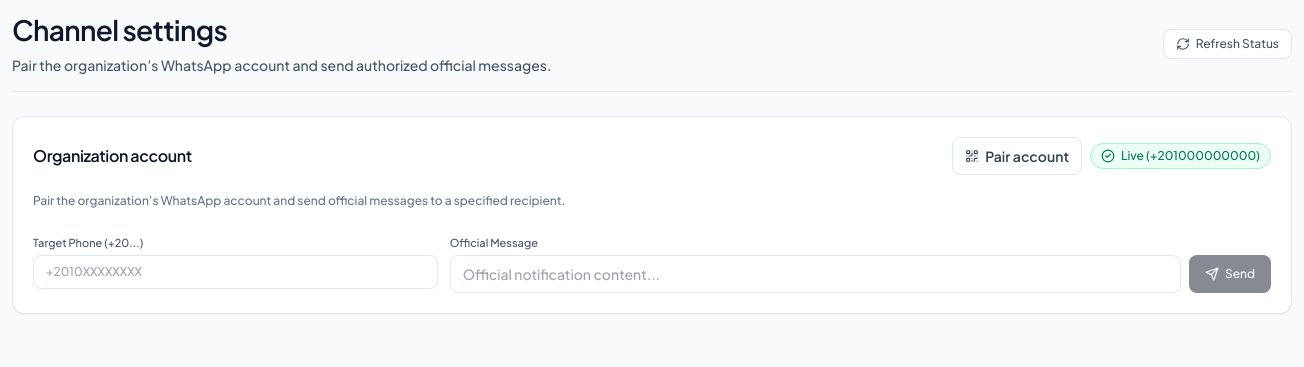
Test: separate communication views › clears stale connected status on refresh failure and supports retry
The width and height of the screenshot is (1304, 367).
Check: the text "Live (+201000000000)" is shown, box x1=1090 y1=143 x2=1271 y2=169
What coordinates should you click on to do the following:
click the button "Refresh Status"
I would click on:
 (1227, 44)
Its box is x1=1163 y1=28 x2=1292 y2=58.
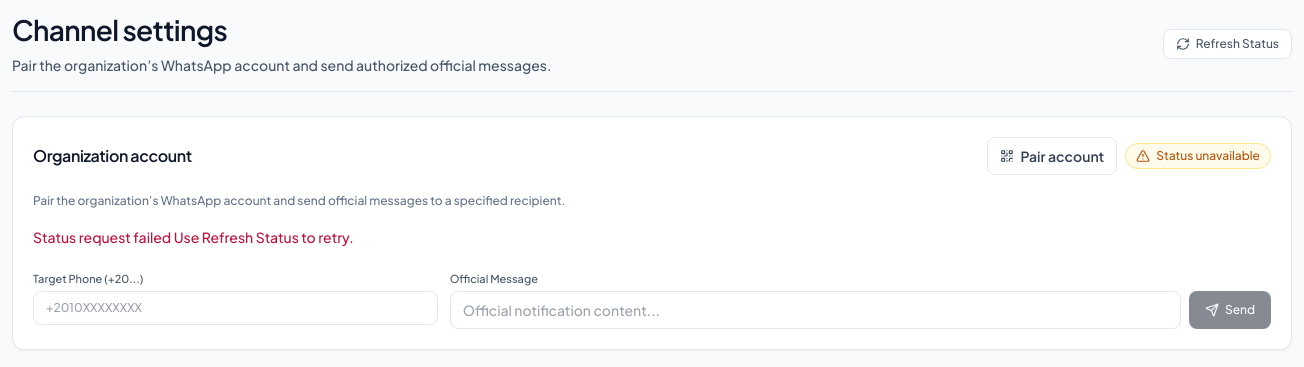
Check: the message shows "Status request failed", box x1=33 y1=228 x2=171 y2=246
Check: the text "Live (" is gone
What coordinates should you click on to do the following:
click the button "Refresh Status"
I would click on:
 (1227, 44)
Its box is x1=1163 y1=28 x2=1292 y2=58.
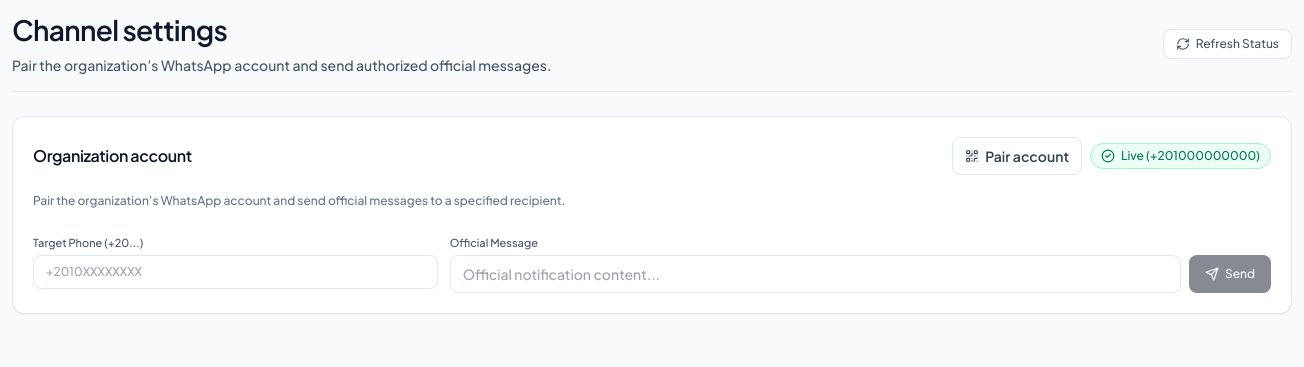
Check: the text "Live (+201000000000)" is shown, box x1=1090 y1=143 x2=1271 y2=169
Check: the message "Status request failed Use Refresh Status to retry." is gone
